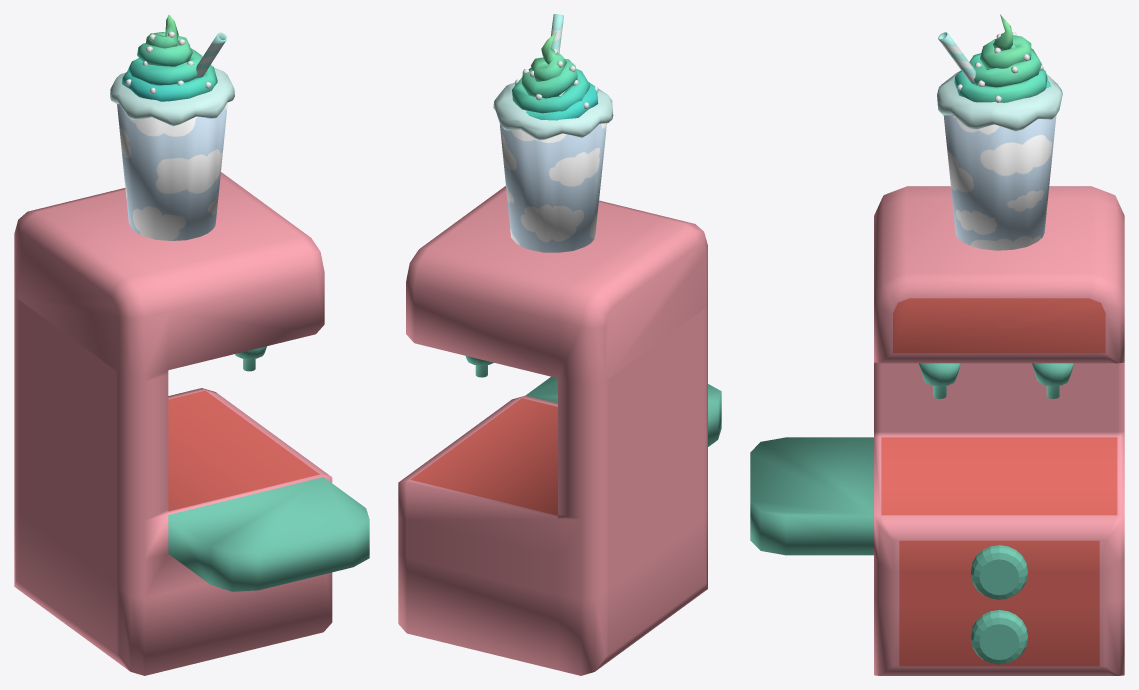
Rendered from Milkshake-Machine.fbx.
The picture shows the model from 3 angles, left to right: view 1: azimuth 30°, elevation 25°; view 2: azimuth 150°, elevation 25°; view 3: azimuth 270°, elevation 25°; orthographic projection. The views are drawn at different scales.
Visible parts, largest first — view 1: Milkshake-Machine; view 2: Milkshake-Machine; view 3: Milkshake-Machine.
Part boxes in pixels (box(x1,y1,x2,y2)): Milkshake-Machine: box(14, 14, 369, 675); Milkshake-Machine: box(398, 14, 721, 675); Milkshake-Machine: box(750, 14, 1124, 675).
Size of the model in its own units: 231 by 588 by 325.
